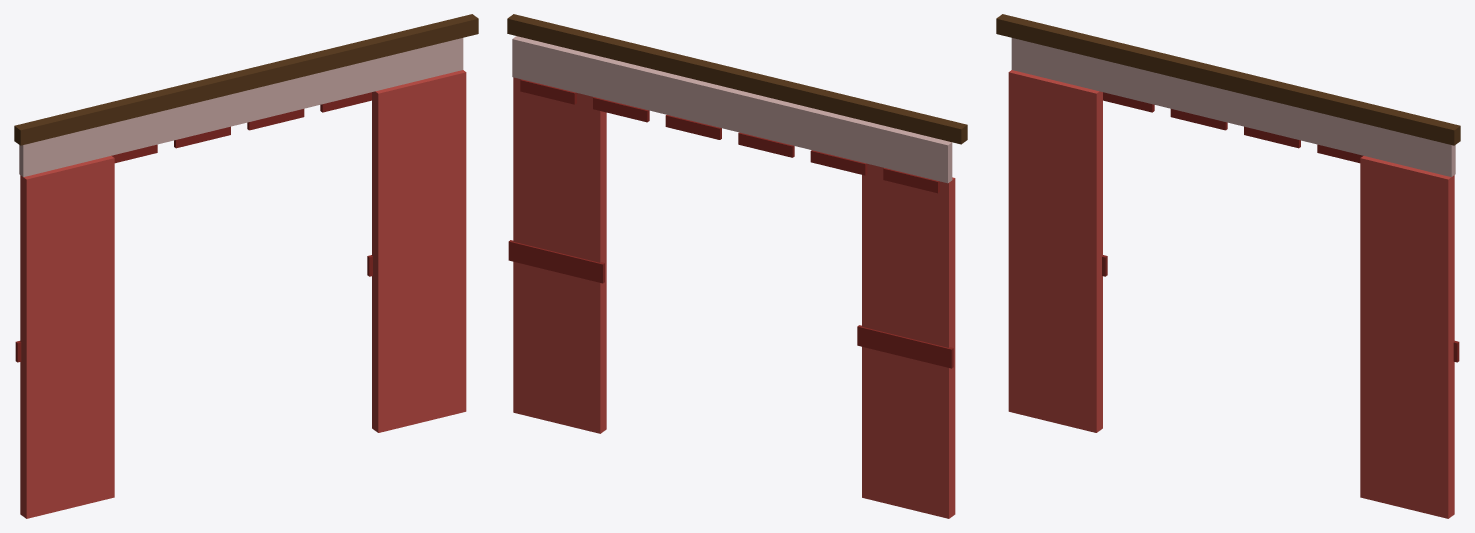
The model's file is ncb-curtains-red.glb.
3 renders of one model, left to right at view 1: azimuth 30°, elevation 25°; view 2: azimuth 150°, elevation 25°; view 3: azimuth 330°, elevation 25°, orthographic.
Visible parts, largest first — view 1: box-prop; view 2: box-prop; view 3: box-prop.
Boxes of the visible parts, bbox=[...] form: box-prop: bbox=[14, 14, 478, 518]; box-prop: bbox=[507, 14, 967, 518]; box-prop: bbox=[996, 14, 1460, 518].
Size of the model in its own units: 2.5 by 2.05 by 0.11.
